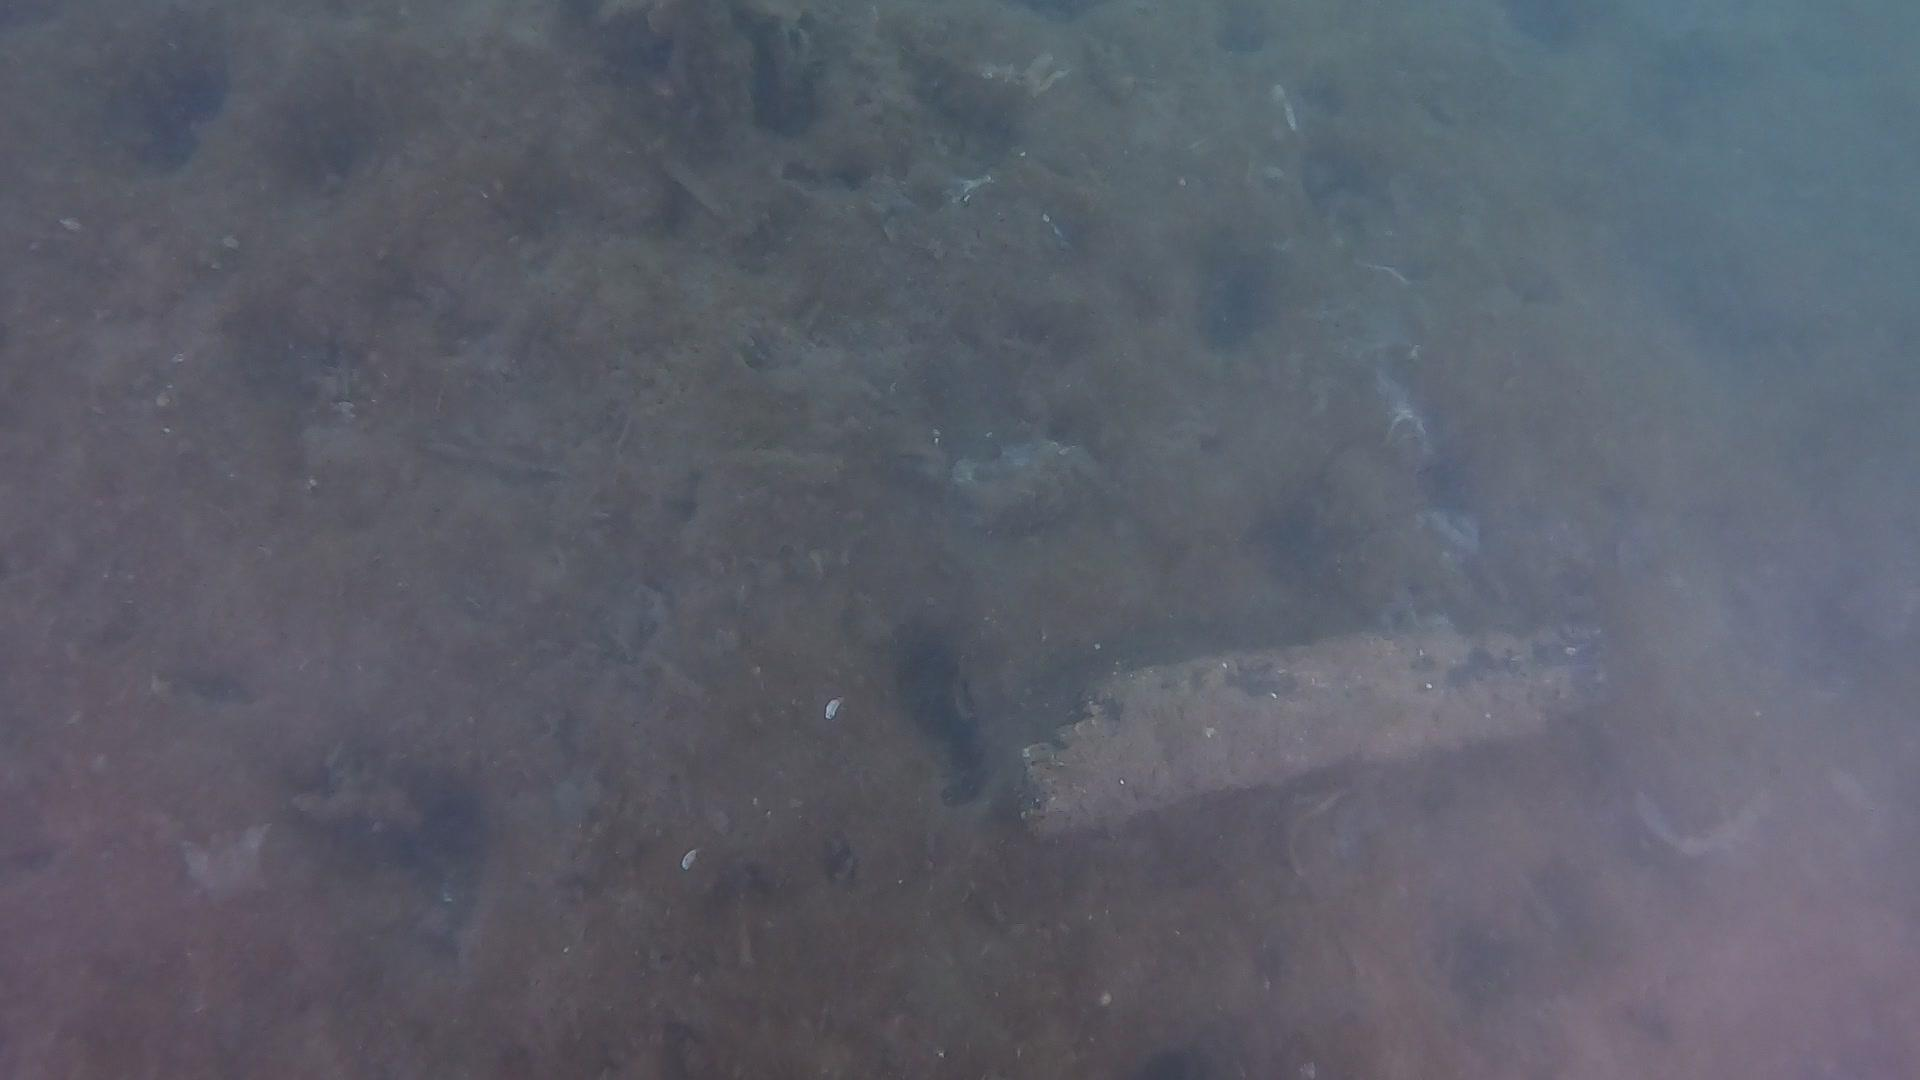wood: (1011, 603, 1610, 851)
